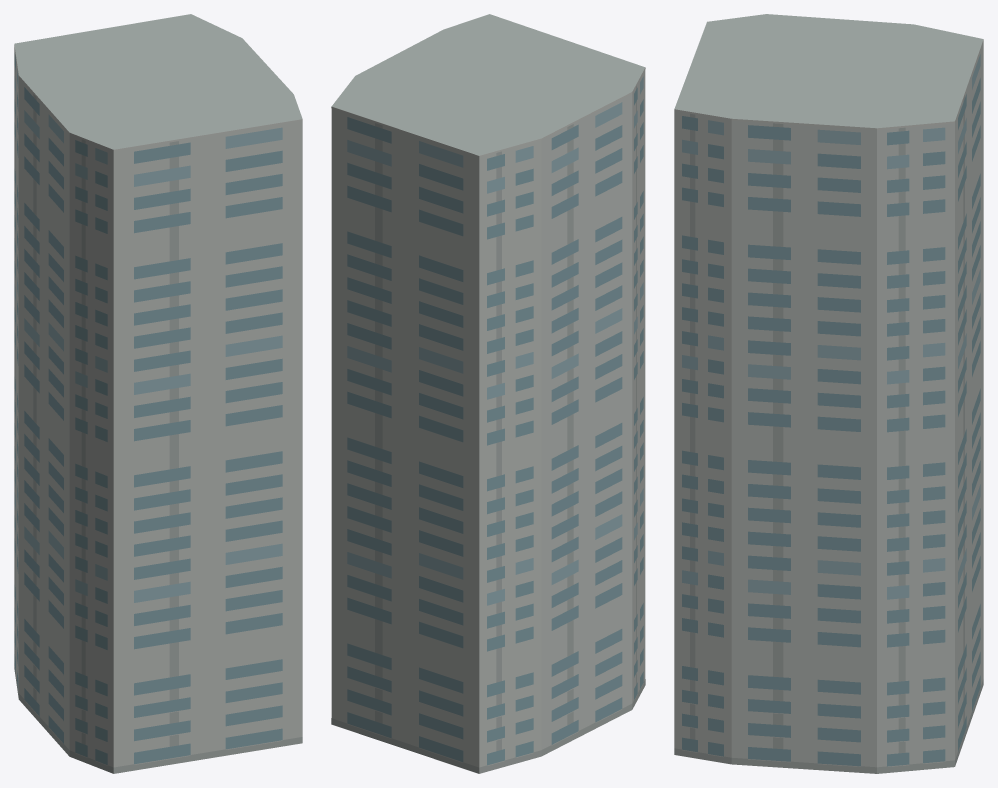
Rendered from residential-6621ef75-a244-4b0c-aea6-dff9612a1d95.glb.
3 views of the same model, side by side, from view 1: azimuth 30°, elevation 25°; view 2: azimuth 150°, elevation 25°; view 3: azimuth 270°, elevation 25° (orthographic). The views are drawn at different scales.
Parts seen in each view (by area): view 1: residential-6621ef75-a244-4b0c-aea6-dff9612a1d95.tmp; view 2: residential-6621ef75-a244-4b0c-aea6-dff9612a1d95.tmp; view 3: residential-6621ef75-a244-4b0c-aea6-dff9612a1d95.tmp.
Boxes of the visible parts, x1,y1,x2,y2 form: residential-6621ef75-a244-4b0c-aea6-dff9612a1d95.tmp: (14,14,302,773); residential-6621ef75-a244-4b0c-aea6-dff9612a1d95.tmp: (331,14,645,773); residential-6621ef75-a244-4b0c-aea6-dff9612a1d95.tmp: (674,14,983,773).
Bounding box in the file's own units: 31.26 × 82.35 × 35.77.
